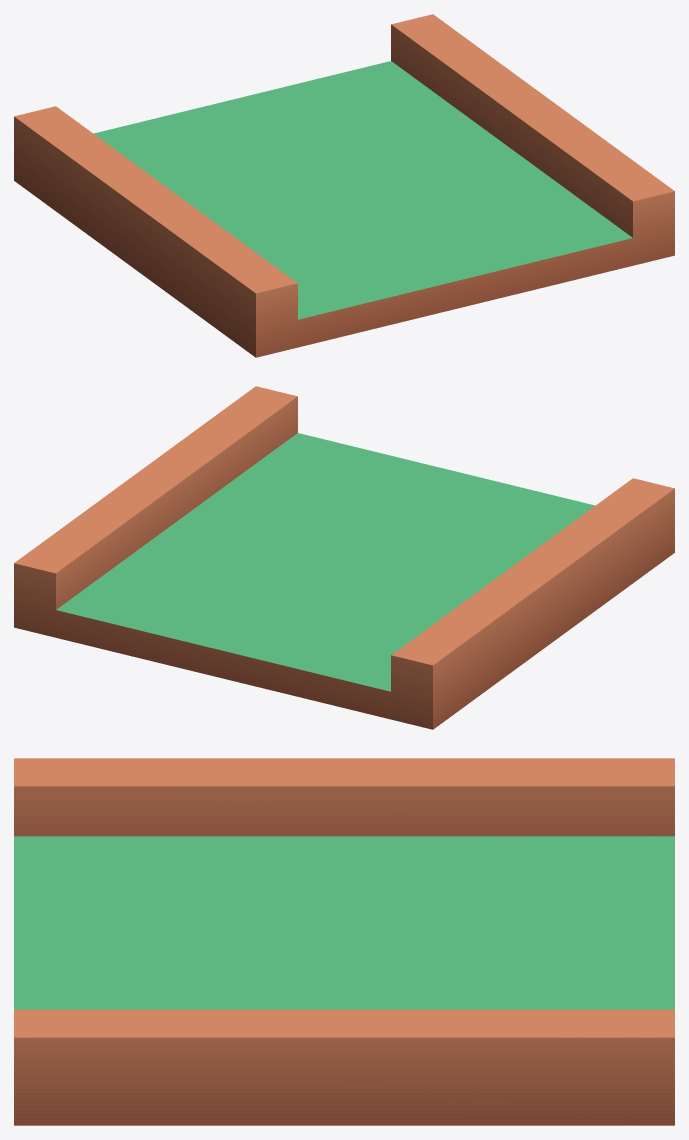
Rendered from straight.glb.
3 views of the same model, one above another, from view 1: azimuth 30°, elevation 25°; view 2: azimuth 150°, elevation 25°; view 3: azimuth 270°, elevation 25° (orthographic). The views are drawn at different scales.
Visible parts, largest first — view 1: straight; view 2: straight; view 3: straight.
Boxes of the visible parts, x1,y1,x2,y2 form: straight: (14,14,674,357); straight: (14,386,674,729); straight: (14,758,674,1125).
Size of the model in its own units: 0.9999 by 0.1467 by 0.9999.
Materials: 1 (1 with a texture image).
